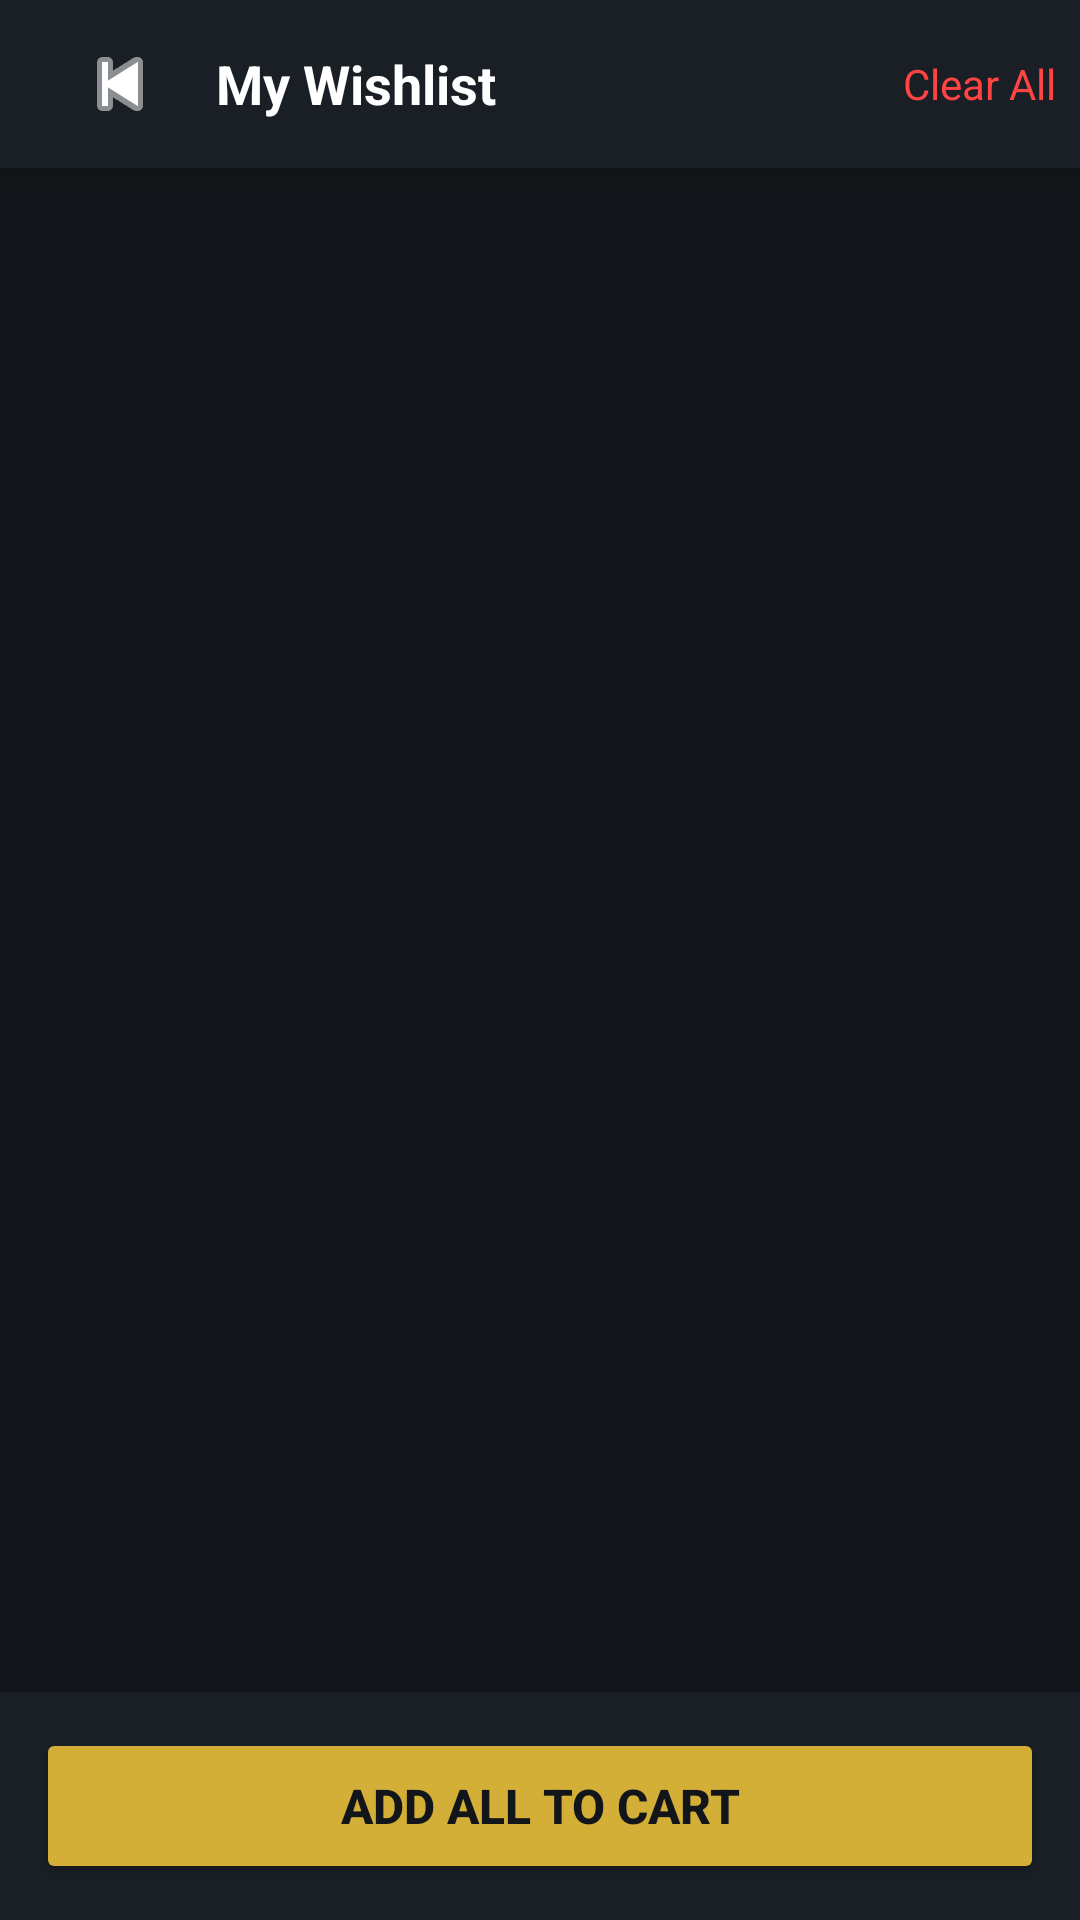

Named icons in this screenshot (1080w x 1920h) and their bounding boxes, (x1, y1, x2, y2):
Back: (97, 57, 143, 111)
